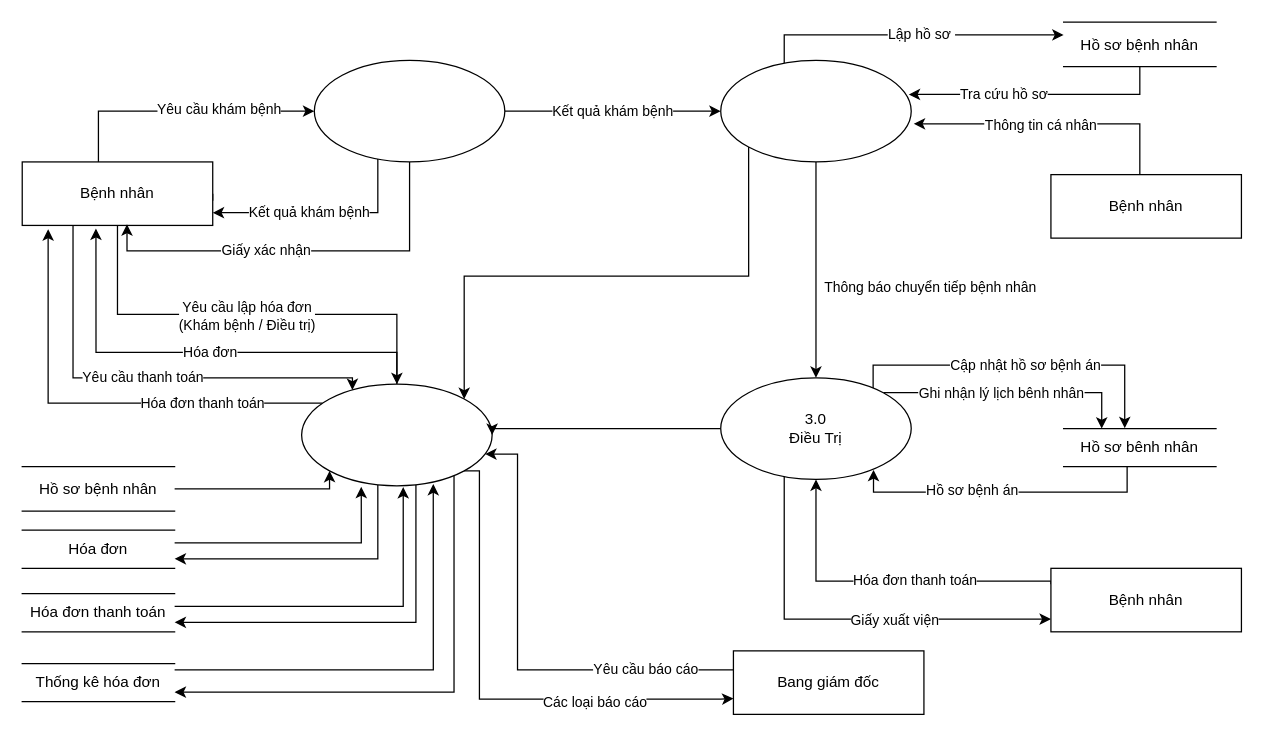
This 1264x737 diagram has some shape labels left out. Each missing label, with the centre of its shape:
"1.0 Khám Bệnh" belongs at (x=409, y=110).
"2.0 Tiếp nhận" belongs at (x=815, y=110).
"4.0 Tài chính kế toán" belongs at (x=396, y=434).
